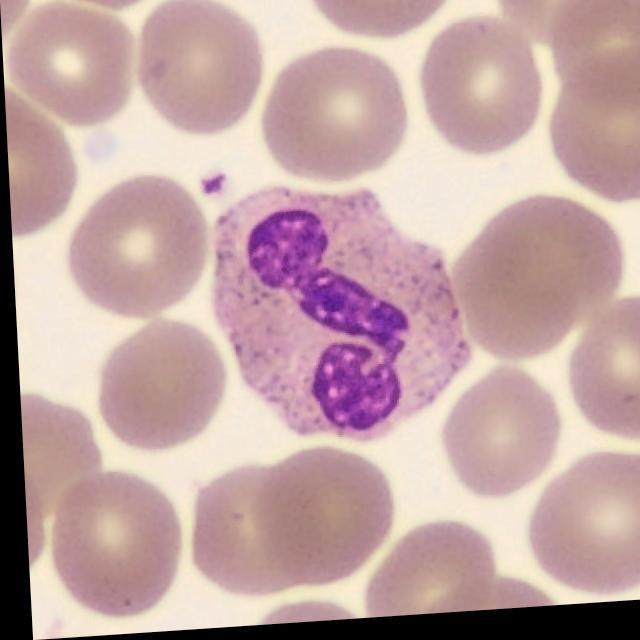Neutrofilo segmentado: (212, 193, 467, 447)
